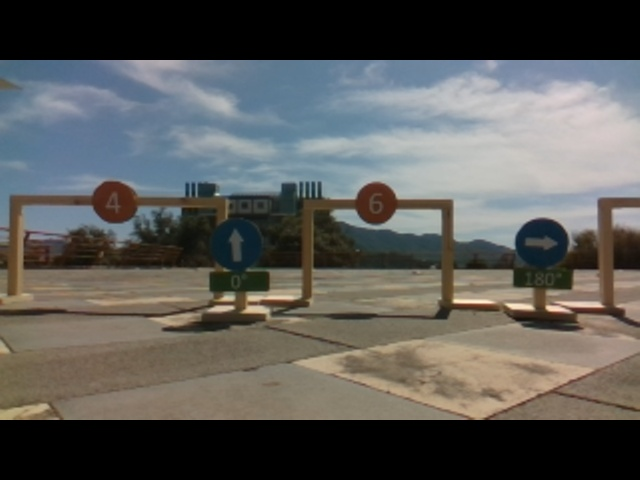0_degree: (207, 271, 273, 294)
180_degree: (513, 267, 575, 288)
arrow_right: (516, 216, 572, 267)
arrow_up: (210, 217, 265, 269)
checkpoint_foot: (437, 294, 500, 313), (556, 297, 621, 313), (258, 294, 316, 307)
checkpoint_side: (594, 190, 615, 305), (439, 194, 459, 297), (7, 194, 23, 294), (300, 201, 316, 296)
checkpoint_signal: (5, 191, 232, 213), (301, 195, 458, 214)
four: (89, 178, 139, 223)
six: (354, 179, 399, 225)
